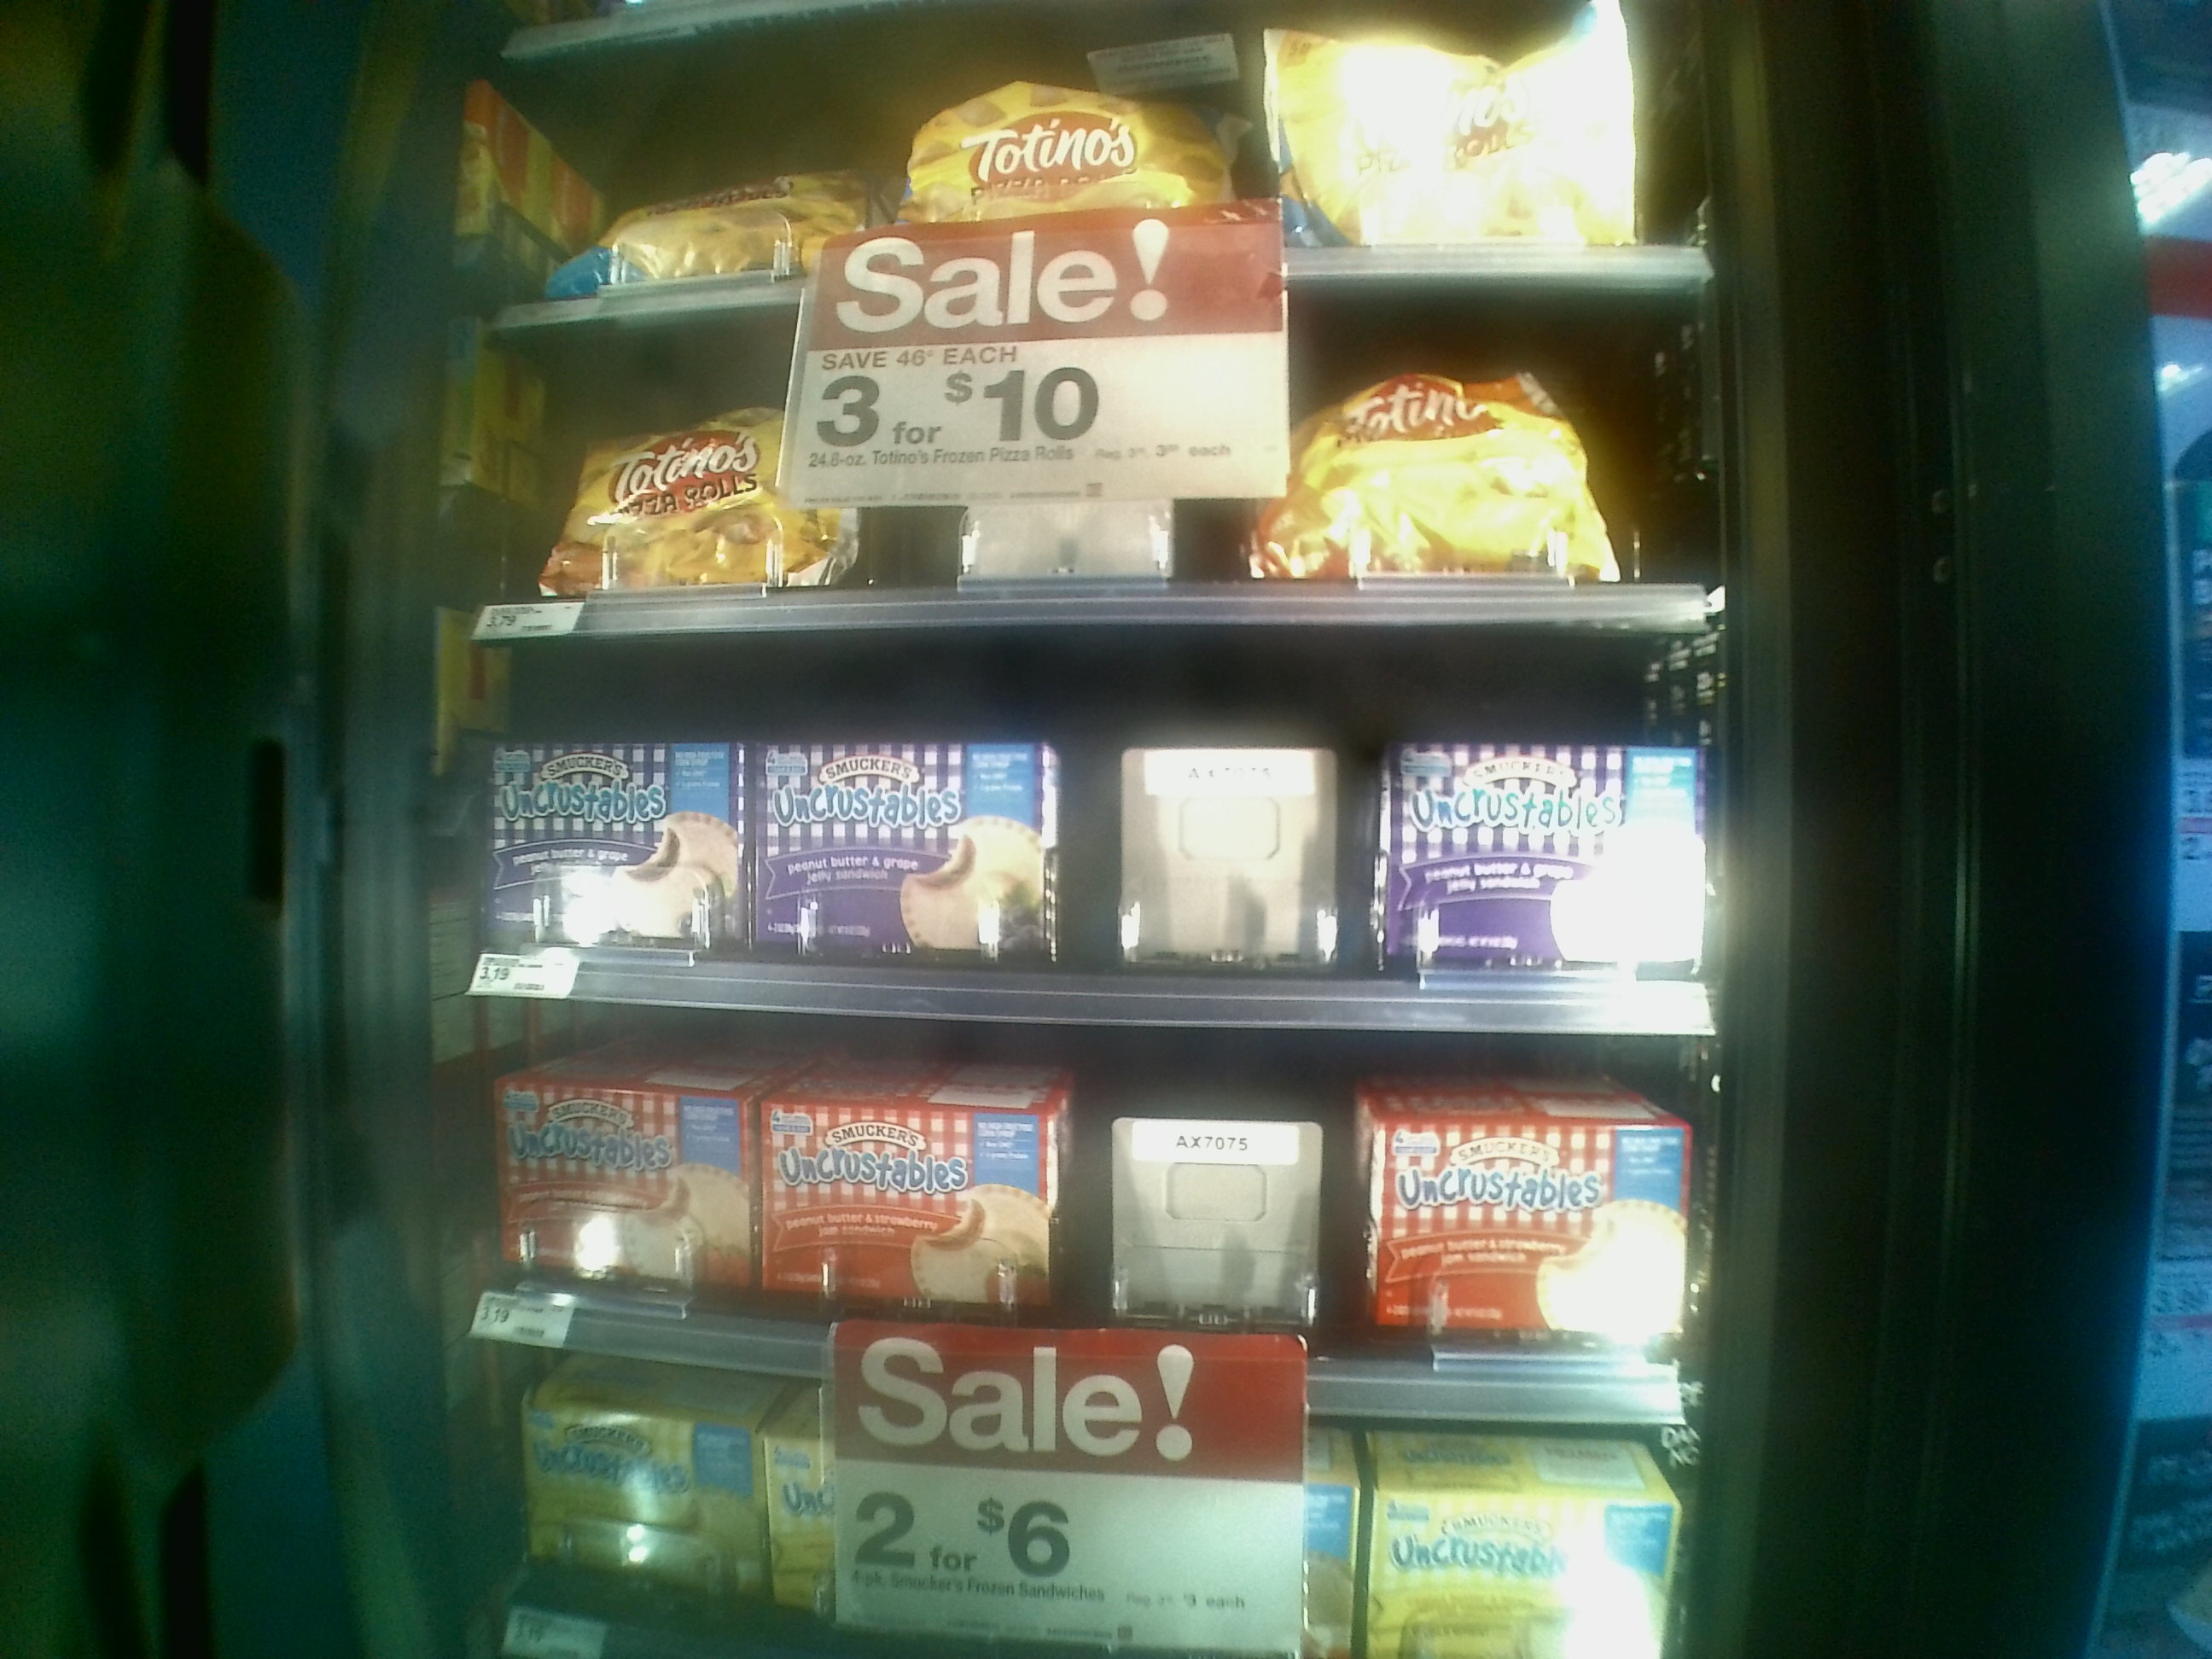shelf: (460, 979, 1684, 1427), (456, 626, 1702, 1037), (467, 308, 1743, 622)
